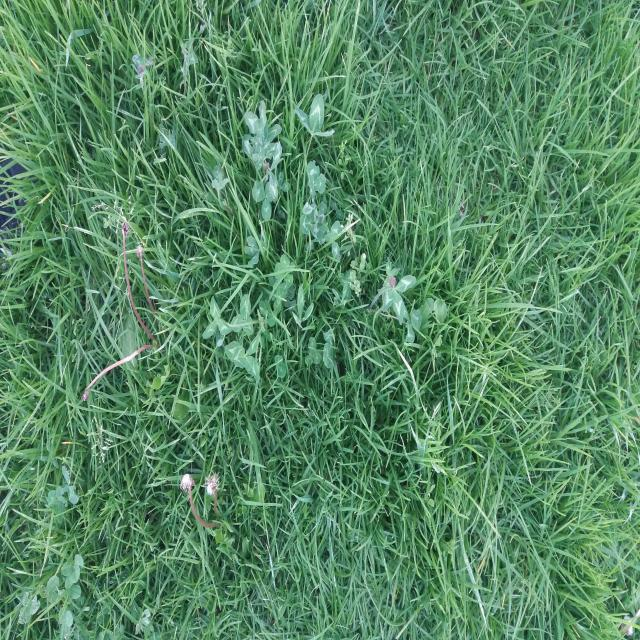Four Leaf Clover: (225, 335, 260, 382)
